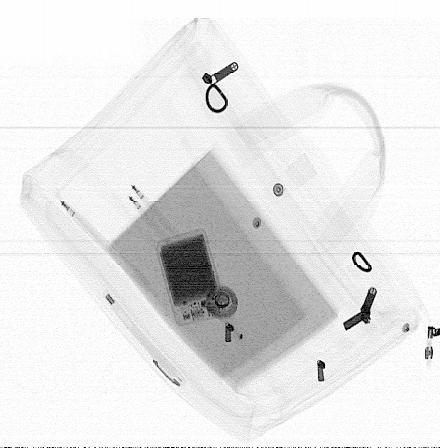Powerbank: (155, 227, 226, 327)
